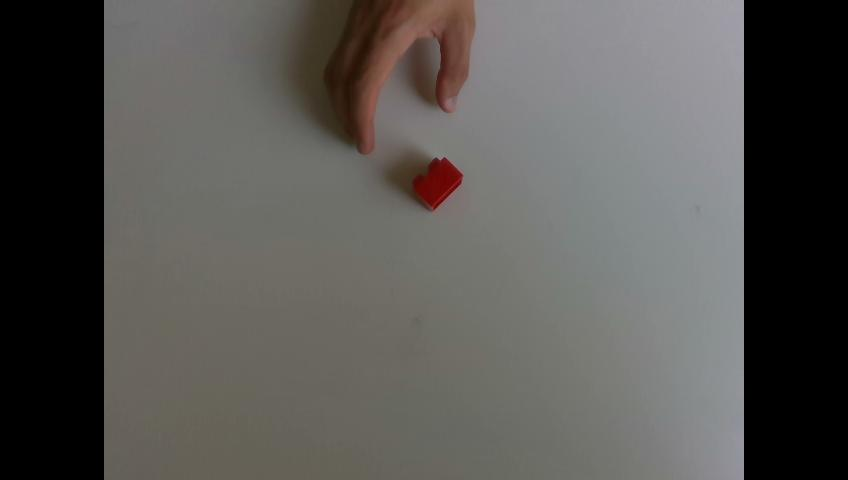2x2_red: (415, 156, 463, 210)
